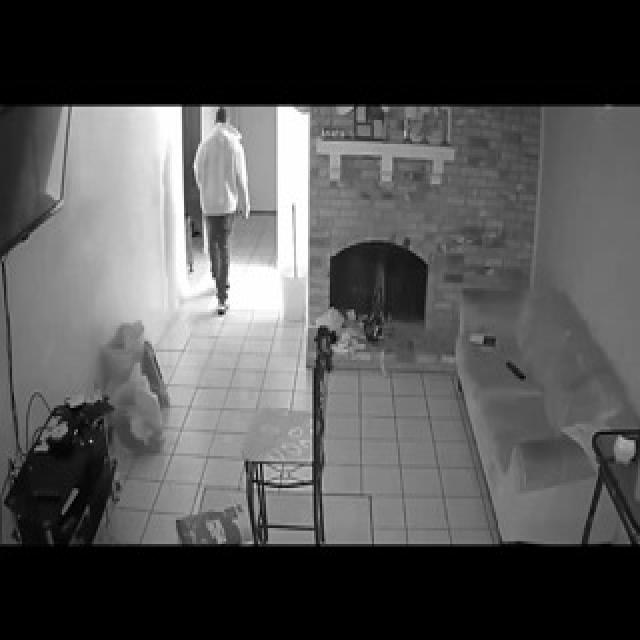thief: (191, 108, 248, 182)
